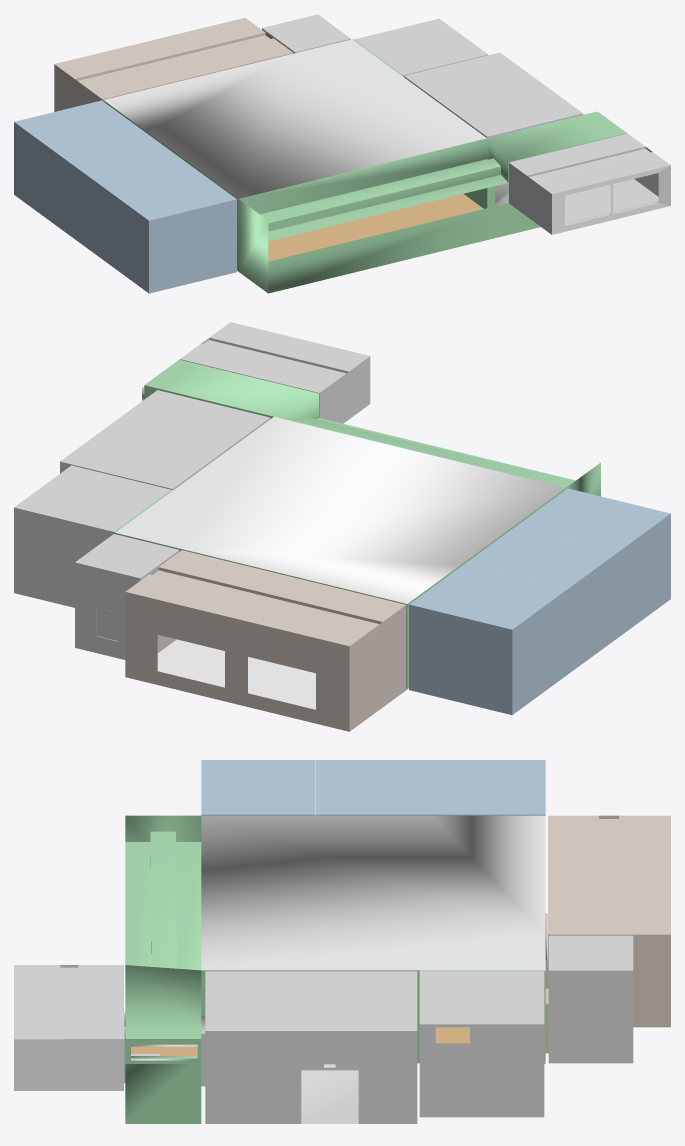
Rendered from BathroomLight.fbx.
3 renders of one model, top to bottom at view 1: azimuth 30°, elevation 25°; view 2: azimuth 150°, elevation 25°; view 3: azimuth 270°, elevation 25°, orthographic. The views are drawn at different scales.
Visible parts, largest first — view 1: Building; view 2: Building, SmallMirror; view 3: Building.
Boxes of the visible parts, left/top/right/bottom form: Building: left=14, top=14, right=670, bottom=293; Building: left=14, top=322, right=670, bottom=731; SmallMirror: left=96, top=608, right=118, bottom=641; Building: left=14, top=760, right=670, bottom=1123.
Size of the model in its own units: 3554 by 548 by 3511.
